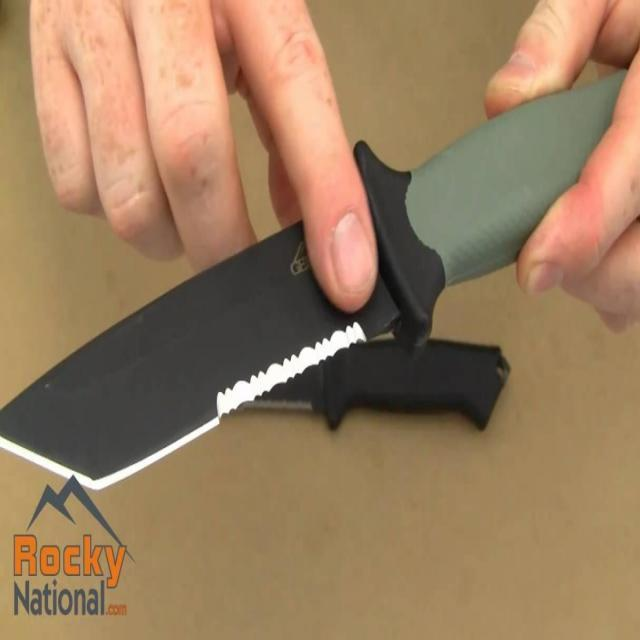Knife: (0, 54, 634, 510)
